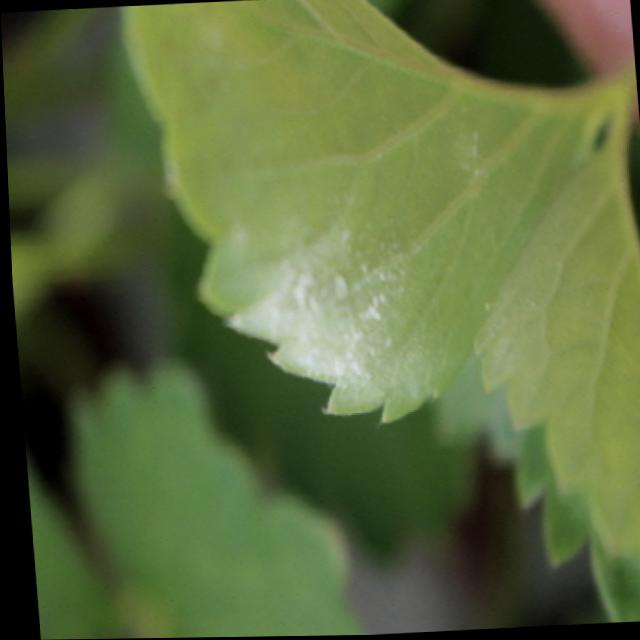Powdery Mildew Leaf: (113, 0, 616, 426)
